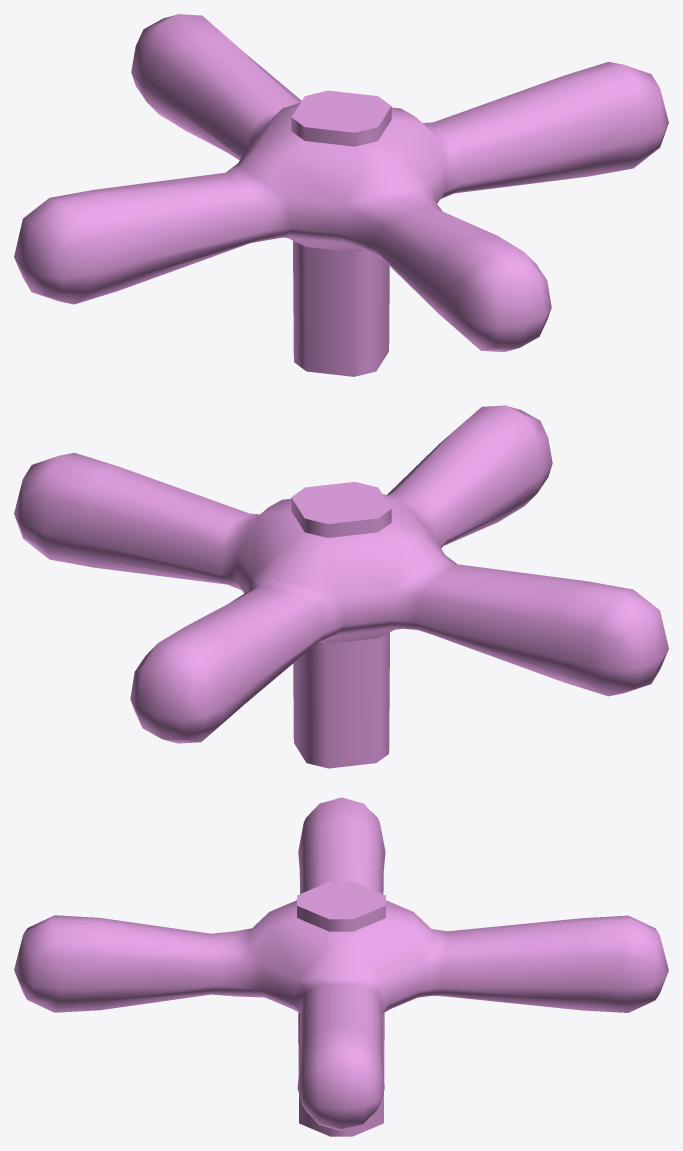
Rendered from Perilla 2.fbx.
The picture shows the model from 3 angles, top to bottom: view 1: azimuth 30°, elevation 25°; view 2: azimuth 150°, elevation 25°; view 3: azimuth 270°, elevation 25°; orthographic projection. The views are drawn at different scales.
Parts seen in each view (by area): view 1: Perilla_2; view 2: Perilla_2; view 3: Perilla_2.
Part boxes in pixels (left/top/right/bottom): Perilla_2: left=14, top=14, right=668, bottom=376; Perilla_2: left=14, top=405, right=668, bottom=768; Perilla_2: left=14, top=797, right=668, bottom=1136.
Size of the model in its own units: 0.0441 by 0.0162 by 0.0441.
